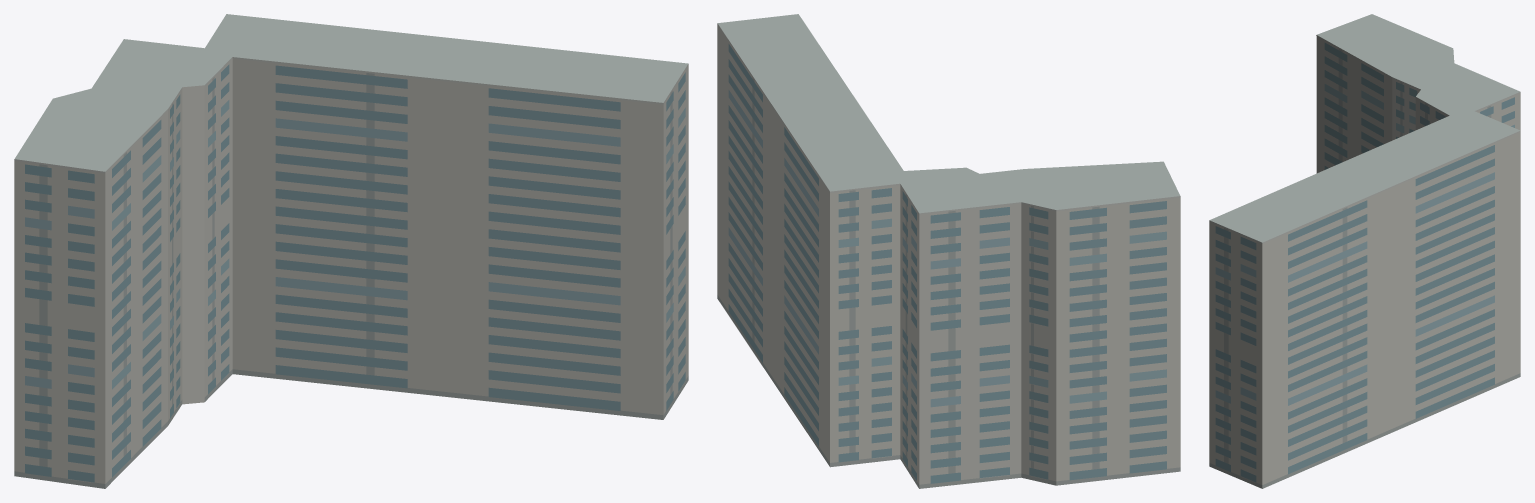
Rendered from residential-be805571-99d3-4af3-b042-b0ed5f017876.glb.
3 views of the same model, side by side, from view 1: azimuth 30°, elevation 25°; view 2: azimuth 150°, elevation 25°; view 3: azimuth 270°, elevation 25° (orthographic). The views are drawn at different scales.
Visible parts, largest first — view 1: residential-be805571-99d3-4af3-b042-b0ed5f017876.tmp; view 2: residential-be805571-99d3-4af3-b042-b0ed5f017876.tmp; view 3: residential-be805571-99d3-4af3-b042-b0ed5f017876.tmp.
Part boxes in pixels (bbox=[...]): residential-be805571-99d3-4af3-b042-b0ed5f017876.tmp: bbox=[14, 14, 688, 488]; residential-be805571-99d3-4af3-b042-b0ed5f017876.tmp: bbox=[717, 14, 1180, 488]; residential-be805571-99d3-4af3-b042-b0ed5f017876.tmp: bbox=[1209, 14, 1520, 488].
Bounding box in the file's own units: 95.59 × 48 × 54.99.
